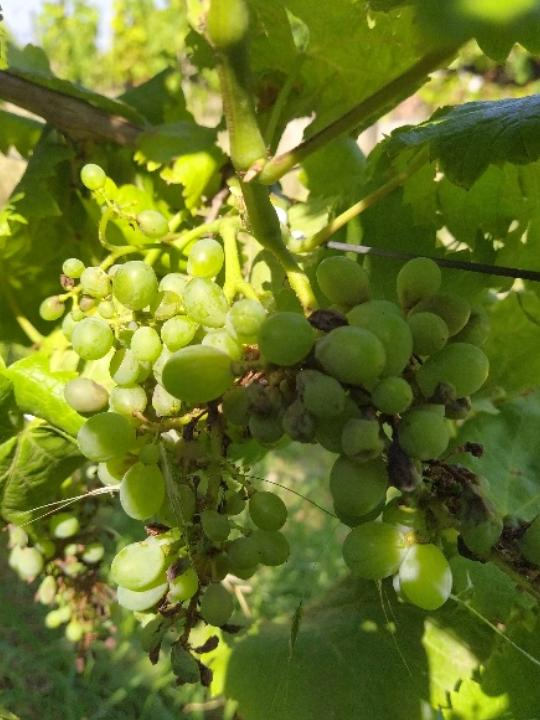grape: (62, 222, 540, 711)
